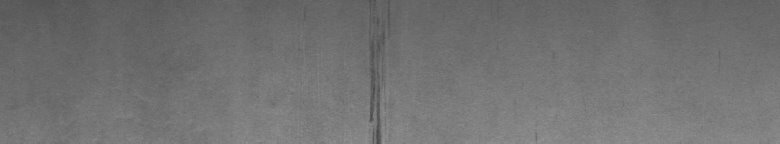hd: (365, 4, 392, 136)
